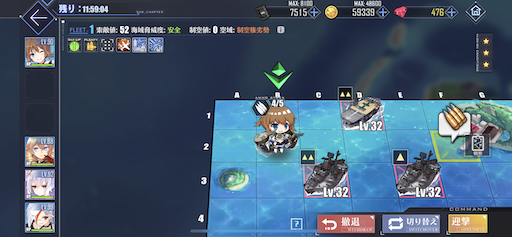lv1: (392, 147, 441, 199)
lv2: (336, 86, 383, 131), (300, 152, 347, 195)
